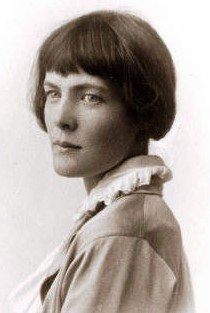noMask: (22, 22, 147, 181)
